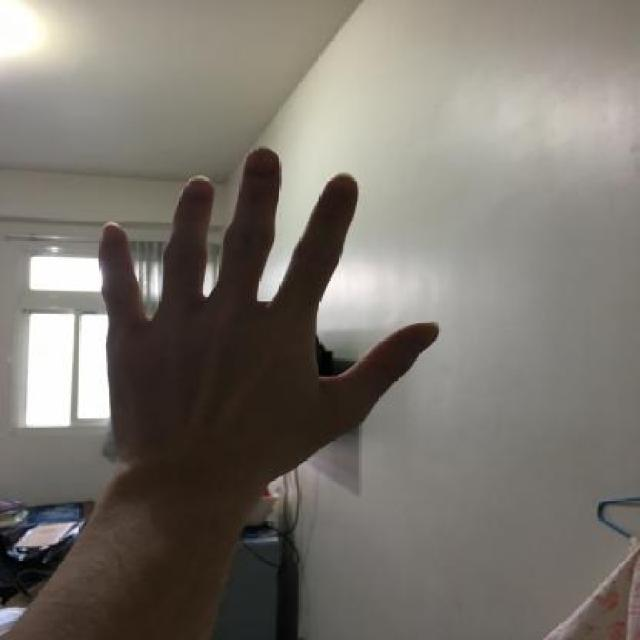bare_hand: (60, 134, 449, 528)
